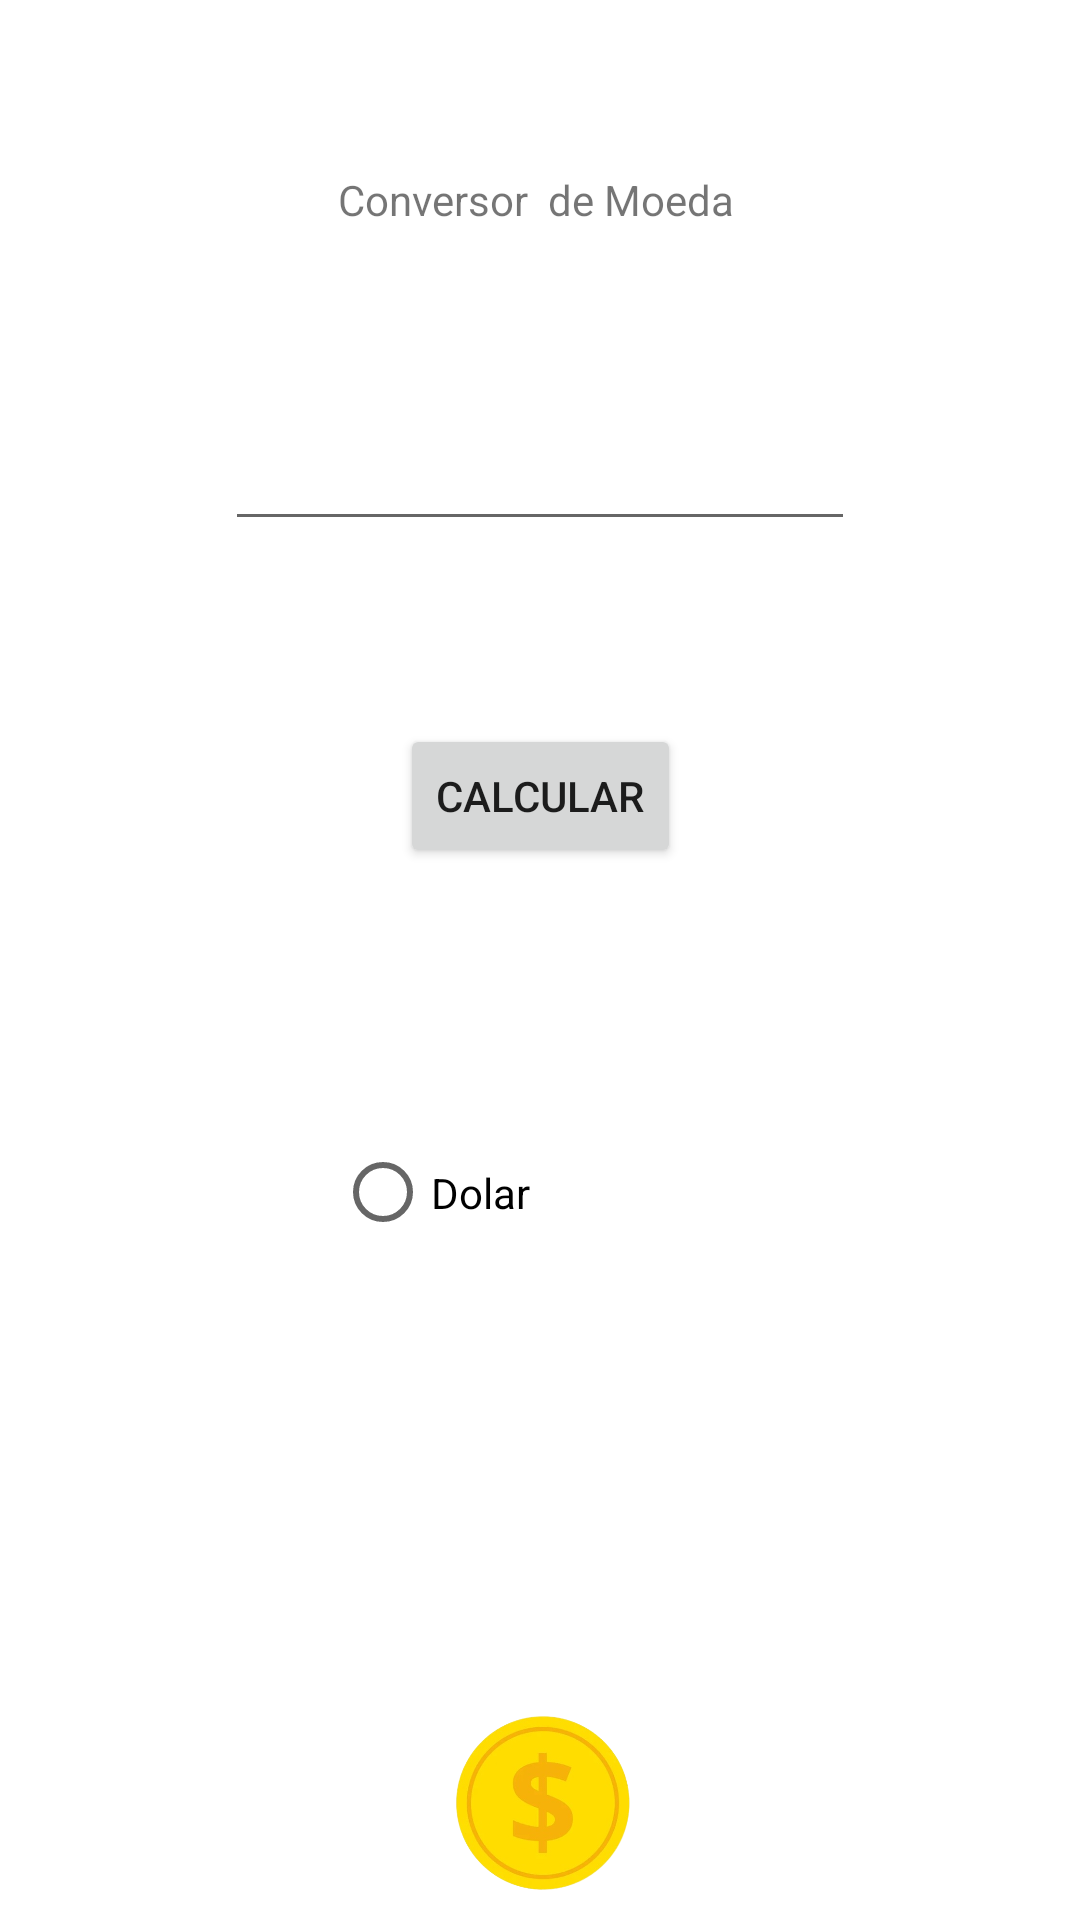

Locate icon controls on the screen. Image size 1080x1920, boxes as (x1, y1, x2, y2).
moeda: (456, 1716, 630, 1890)
